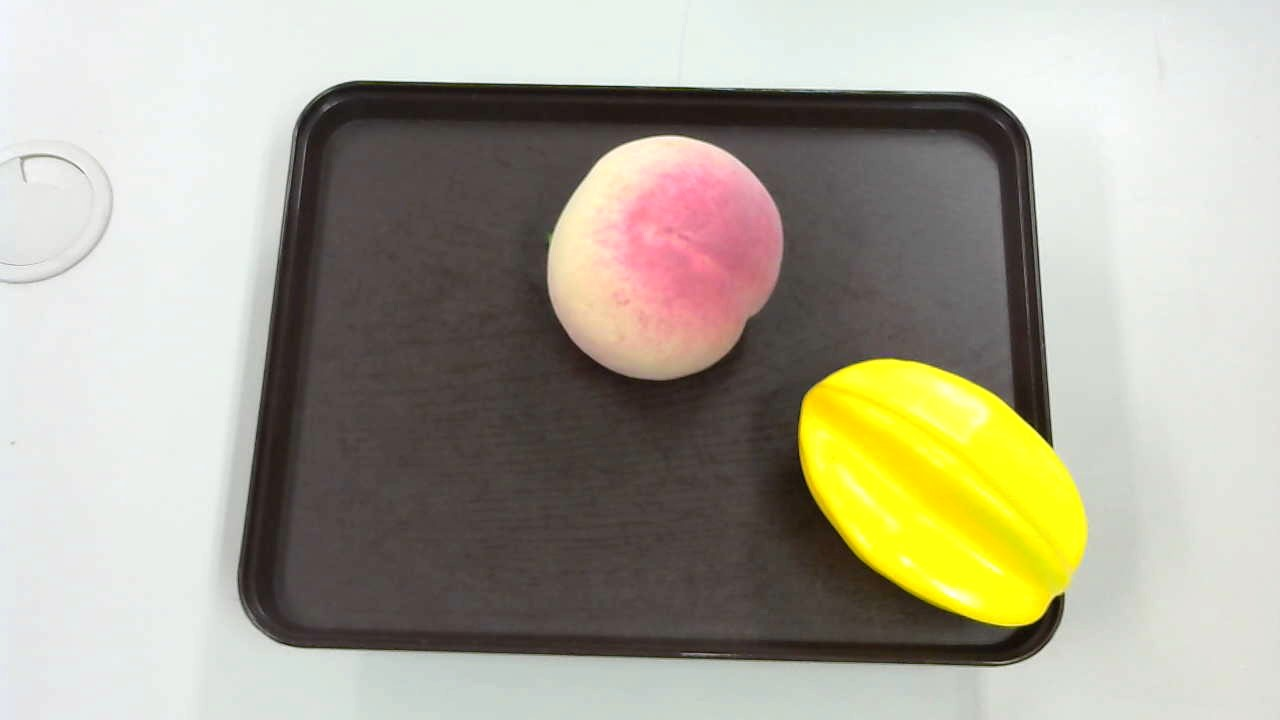peach: (535, 130, 786, 386)
star fruit: (795, 356, 1096, 632)
